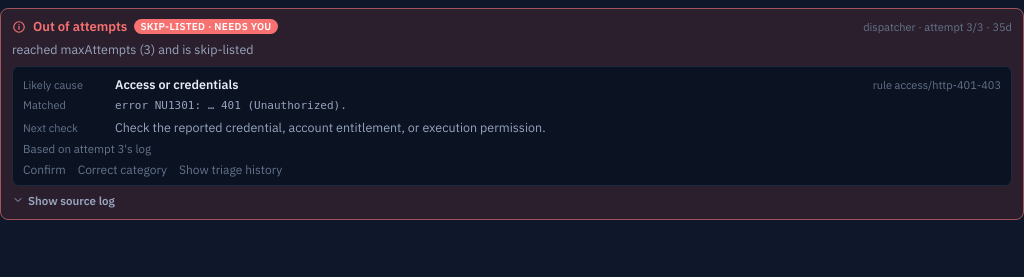
failure triage in the failure banner › pages triage history
Click the button "Show triage history". click: (231, 169)
box: [179,162,282,177]
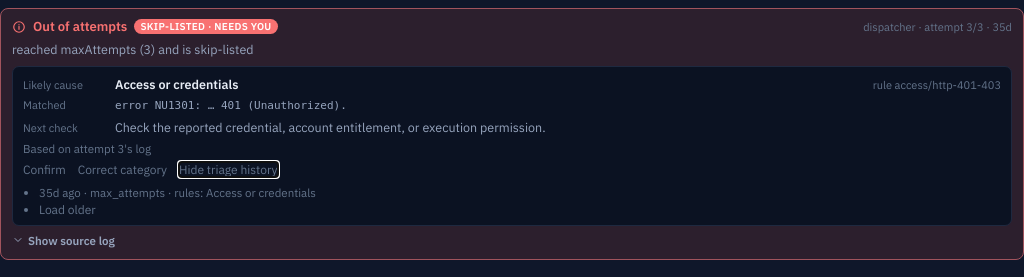
Now the list item "35d ago · max_attempts · rules: Access or credentials" is shown, box [39,185,316,200]
Click the button "Load older". click: (67, 209)
box: [39,202,96,217]
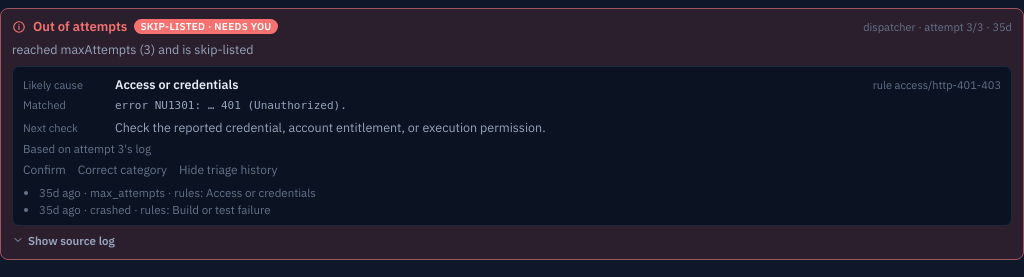
Now the list item "35d ago · crashed · rules: Build or test failure" is shown, box [39,202,270,217]
Now the button "Load older" is gone
